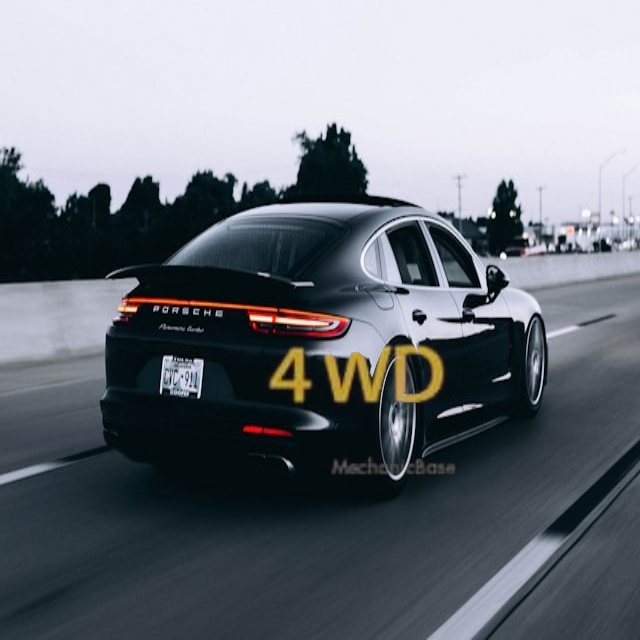symbol: (247, 268, 464, 485)
